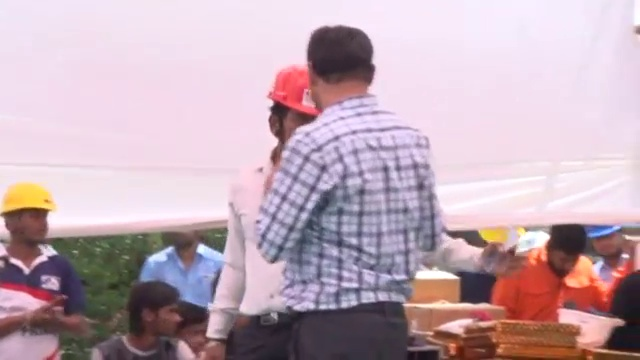helmet: (266, 62, 321, 116), (558, 306, 628, 346), (0, 185, 57, 222), (512, 229, 551, 258)
helmet_off: (292, 27, 381, 102), (123, 282, 182, 351), (542, 227, 585, 277), (172, 314, 210, 356), (589, 230, 628, 265), (165, 230, 200, 263)
helmet_on: (262, 63, 319, 164), (0, 186, 56, 258)
person: (256, 21, 442, 356), (206, 63, 322, 359), (0, 187, 92, 357), (493, 229, 603, 322), (93, 281, 207, 360), (141, 230, 220, 321), (577, 230, 636, 325)
